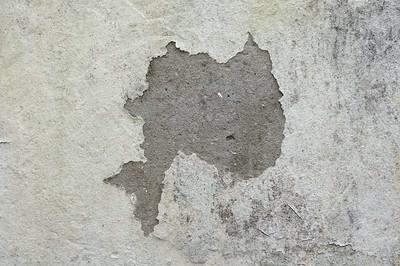Spalling: (101, 30, 287, 238)
